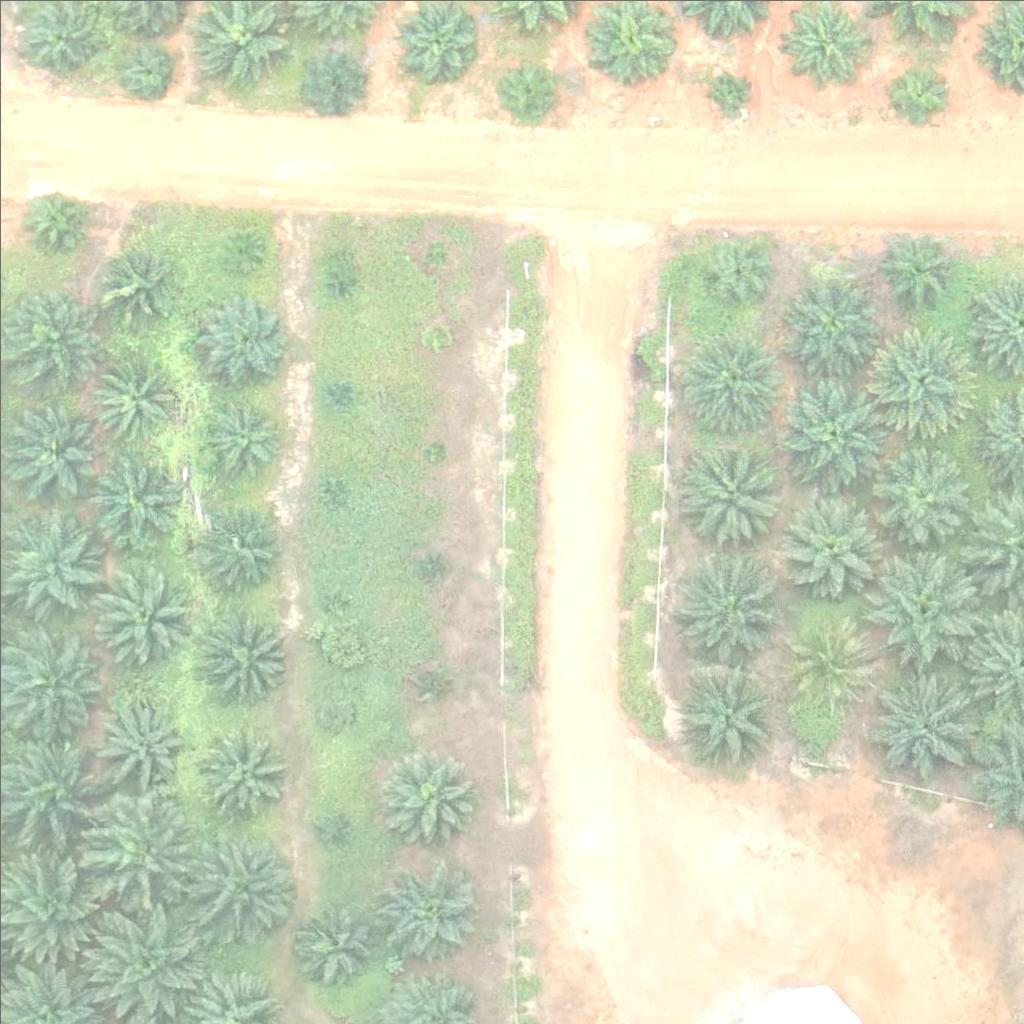Kelapa_Sawit: (186, 829, 299, 943), (862, 666, 975, 780), (864, 550, 977, 664), (775, 378, 888, 491), (87, 901, 199, 1015), (84, 795, 196, 909), (863, 317, 975, 430), (187, 281, 299, 394), (668, 552, 780, 665), (2, 512, 102, 613), (93, 563, 193, 664), (85, 451, 185, 552), (378, 859, 478, 960), (380, 751, 480, 852), (678, 664, 778, 765), (781, 272, 881, 373), (683, 445, 783, 545), (678, 331, 778, 431), (777, 492, 877, 592), (871, 442, 971, 542), (193, 394, 281, 483), (196, 503, 284, 591), (87, 351, 175, 439), (784, 614, 872, 702), (8, 399, 95, 487), (96, 698, 183, 786), (196, 731, 283, 819), (203, 609, 290, 697), (290, 902, 377, 990), (697, 233, 772, 309), (93, 246, 168, 321), (879, 228, 954, 303), (26, 185, 89, 248), (303, 47, 366, 110), (889, 66, 951, 129), (494, 54, 556, 117), (121, 43, 171, 93), (314, 689, 352, 727), (221, 234, 259, 272), (707, 71, 744, 109), (314, 817, 339, 842), (318, 587, 343, 612), (324, 471, 349, 496), (418, 667, 443, 692), (418, 554, 443, 579), (422, 436, 447, 461), (426, 324, 451, 349), (423, 240, 448, 265), (323, 382, 348, 407), (330, 272, 355, 297)
